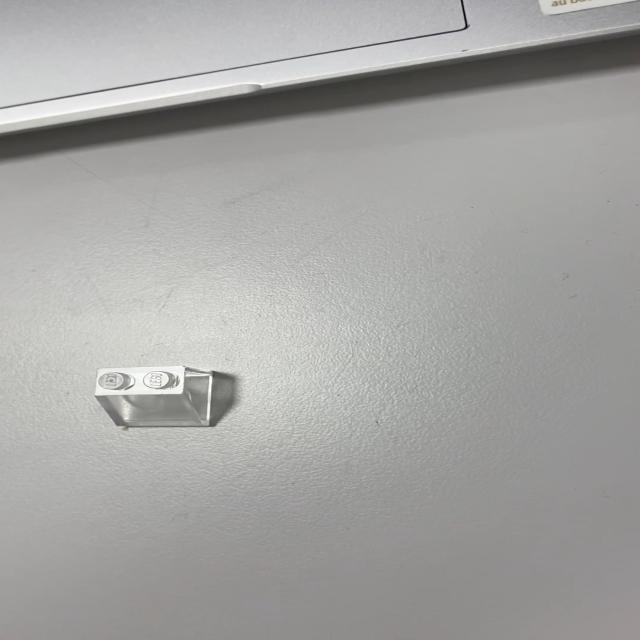P2x2x1: (92, 366, 214, 429)
